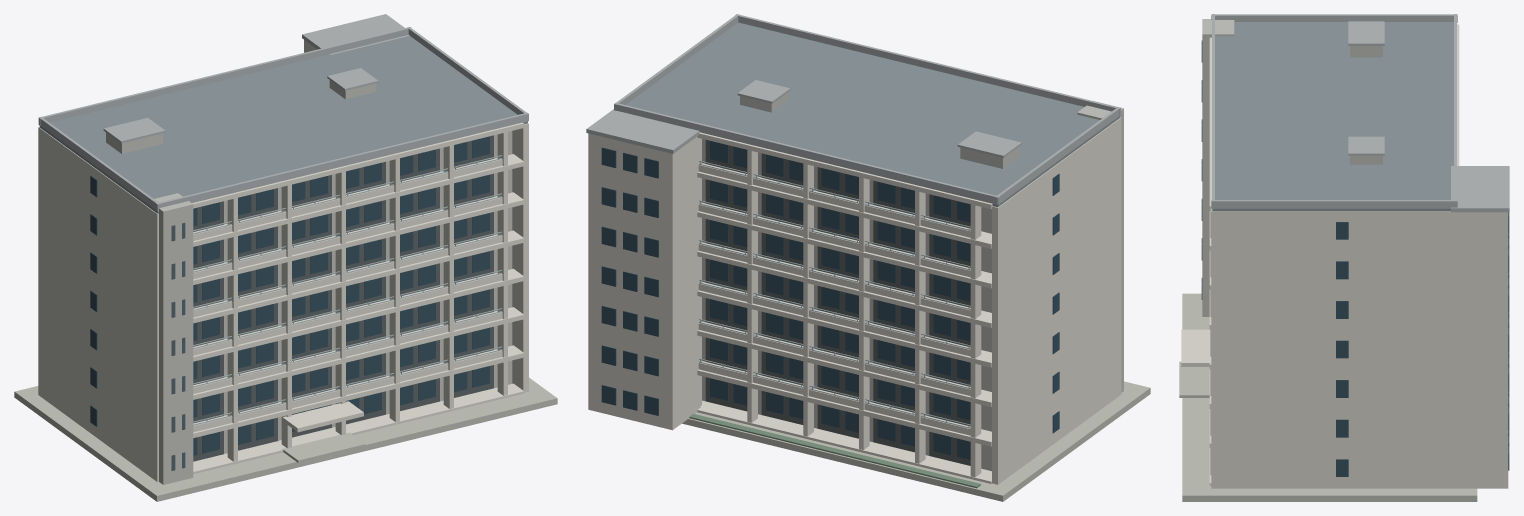
3 renders of one model, left to right at view 1: azimuth 30°, elevation 25°; view 2: azimuth 150°, elevation 25°; view 3: azimuth 270°, elevation 25°, orthographic. The views are drawn at different scales.
Bounding box in the file's own units: 33.4 × 23.2 × 23.1.
